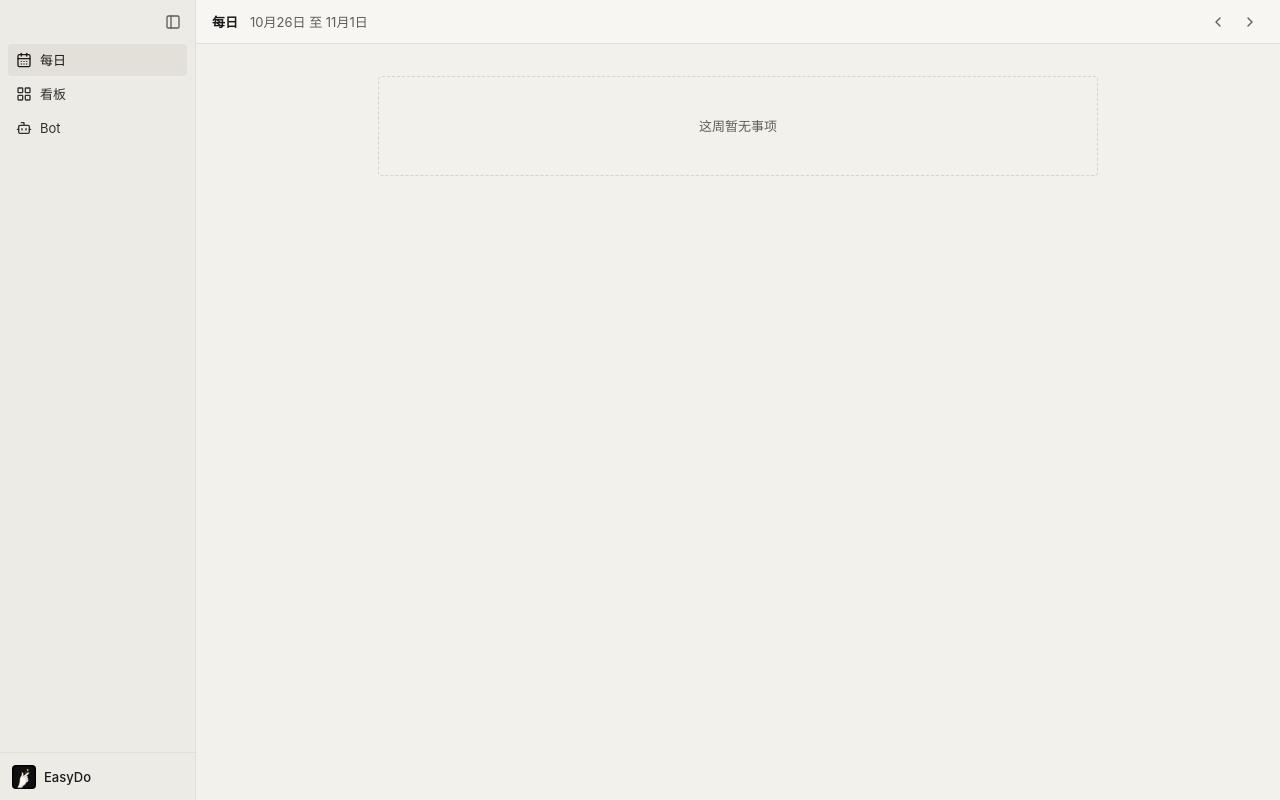
Test case: DailyPage › switches to another week with the week controls
The width and height of the screenshot is (1280, 800).
Check: the text "这周暂无事项" is shown, box top-left (378, 76), bottom-right (1098, 176)
Click the button titled "下一周".
click(1250, 22)  # box top-left (1236, 8), bottom-right (1264, 36)
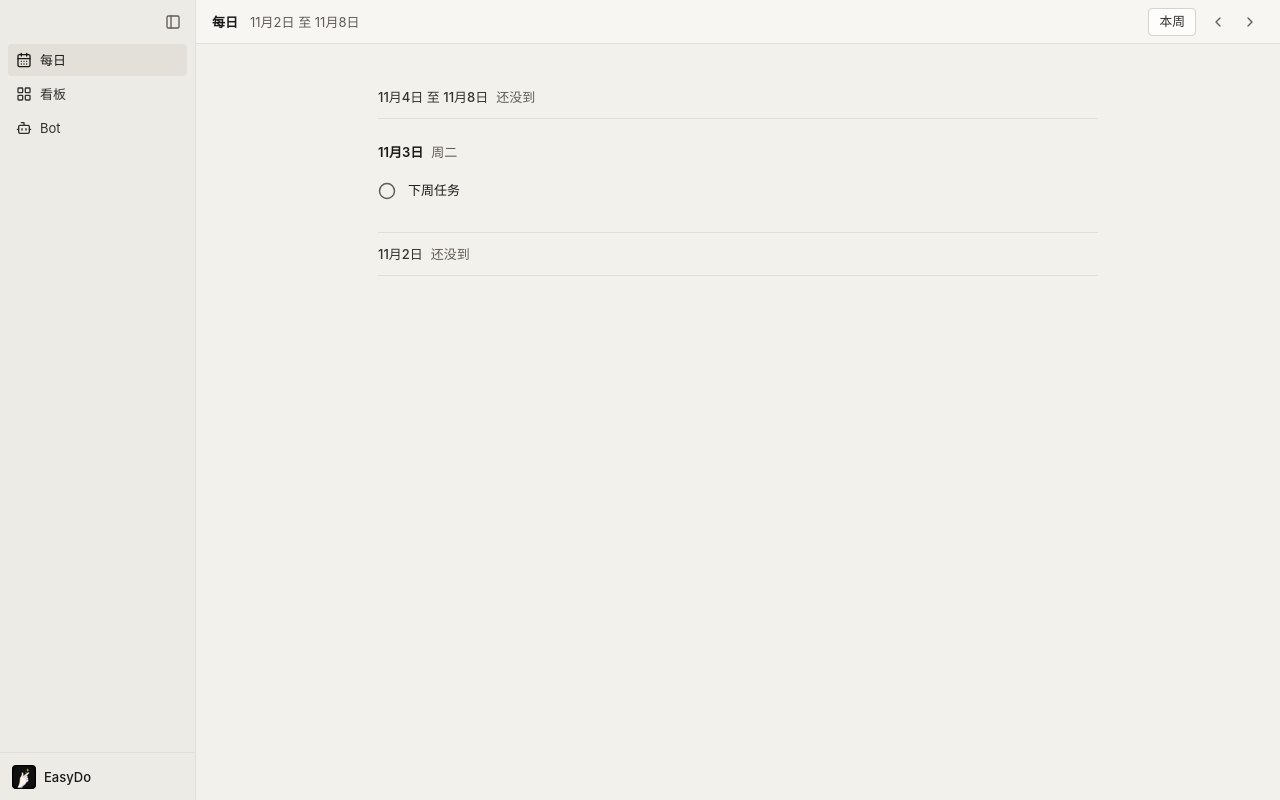
Check: the text "下周任务" is shown, box top-left (408, 182), bottom-right (460, 198)
